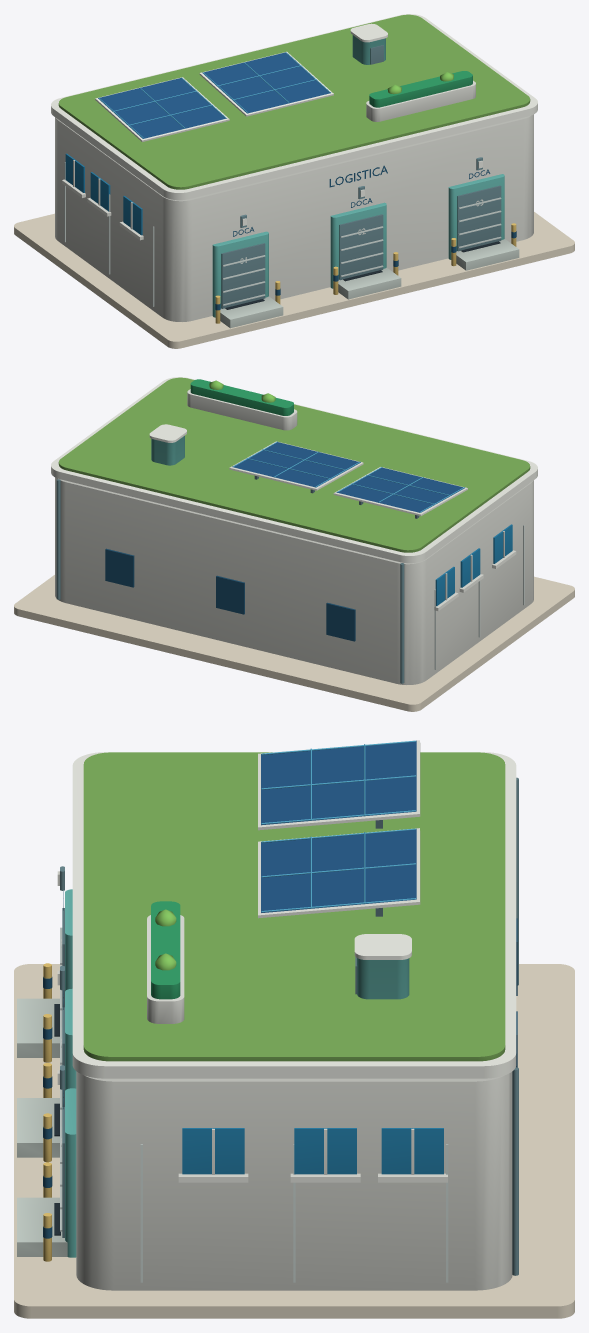
Rendered from port-warehouse.glb.
3 views of the same model, one above another, from view 1: azimuth 30°, elevation 25°; view 2: azimuth 150°, elevation 25°; view 3: azimuth 270°, elevation 25° (orthographic). The views are drawn at different scales.
Visible parts, largest first — view 1: clean industrial shell, green roof, industrial paved footing, photovoltaic cells, roof access hatch, roof access, loading threshold, roller rib, factory side glass, planter foliage, solar cell division, identity DOCA (+1 smaller); view 2: clean industrial shell, green roof, industrial paved footing, photovoltaic cells, identity DOCA, factory side glass, planter foliage, roof access hatch, solar cell division, roof access, roller rib; view 3: clean industrial shell, green roof, industrial paved footing, photovoltaic cells, factory side glass, loading threshold, roof access, roof access hatch, solar cell division, planter foliage, roller rib, dock protective bollard (+1 smaller).
Part boxes in pixels (x1,y1,x2,y2): clean industrial shell: (51, 14, 537, 321); green roof: (58, 14, 530, 189); industrial paved footing: (14, 212, 574, 348); photovoltaic cells: (98, 52, 330, 138); roof access hatch: (221, 45, 501, 308); roof access: (212, 35, 504, 317); loading threshold: (220, 239, 519, 328); roller rib: (64, 162, 501, 306); factory side glass: (65, 153, 142, 235); planter foliage: (369, 71, 472, 107); solar cell division: (98, 52, 330, 138); identity DOCA: (215, 165, 516, 310); clean industrial shell: (51, 377, 537, 684); green roof: (58, 377, 530, 552); industrial paved footing: (14, 575, 574, 711); photovoltaic cells: (232, 442, 464, 512); identity DOCA: (105, 548, 355, 641); factory side glass: (435, 524, 512, 606); planter foliage: (190, 379, 293, 415); roof access hatch: (56, 476, 419, 683); solar cell division: (233, 441, 464, 512); roof access: (151, 435, 184, 465); roller rib: (434, 525, 524, 669); clean industrial shell: (57, 740, 516, 1290); green roof: (83, 752, 505, 1061); industrial paved footing: (14, 964, 574, 1318); photovoltaic cells: (261, 740, 416, 912); factory side glass: (182, 1128, 443, 1174); loading threshold: (17, 998, 67, 1256); roof access: (65, 889, 409, 1257); roof access hatch: (60, 777, 518, 1275); solar cell division: (261, 740, 416, 912); planter foliage: (151, 901, 180, 999); roller rib: (60, 927, 448, 1282); dock protective bollard: (43, 963, 51, 1261).
Size of the model in its own units: 6.5 by 2.58 by 4.5.
